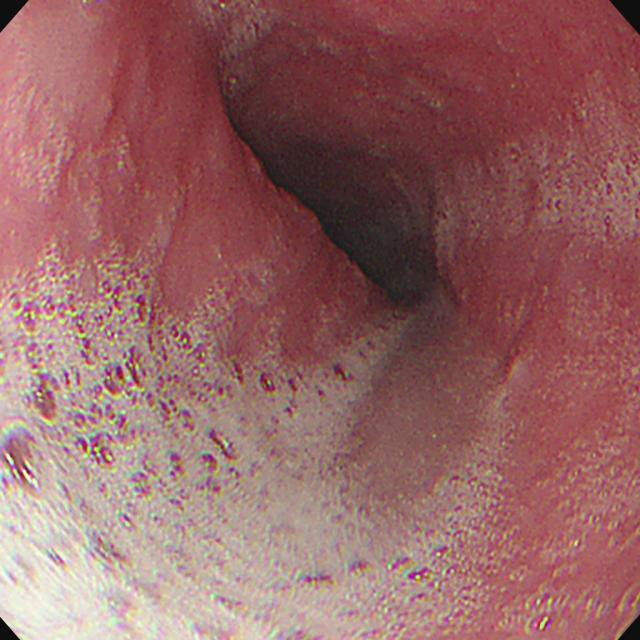E: (268, 142, 421, 302)
T: (233, 314, 523, 640), (2, 240, 231, 640), (463, 139, 640, 249)
